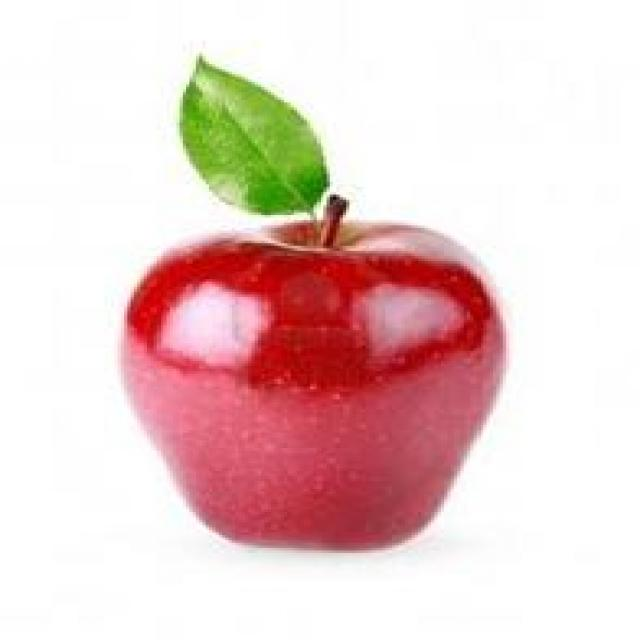apple: (116, 51, 508, 560)
